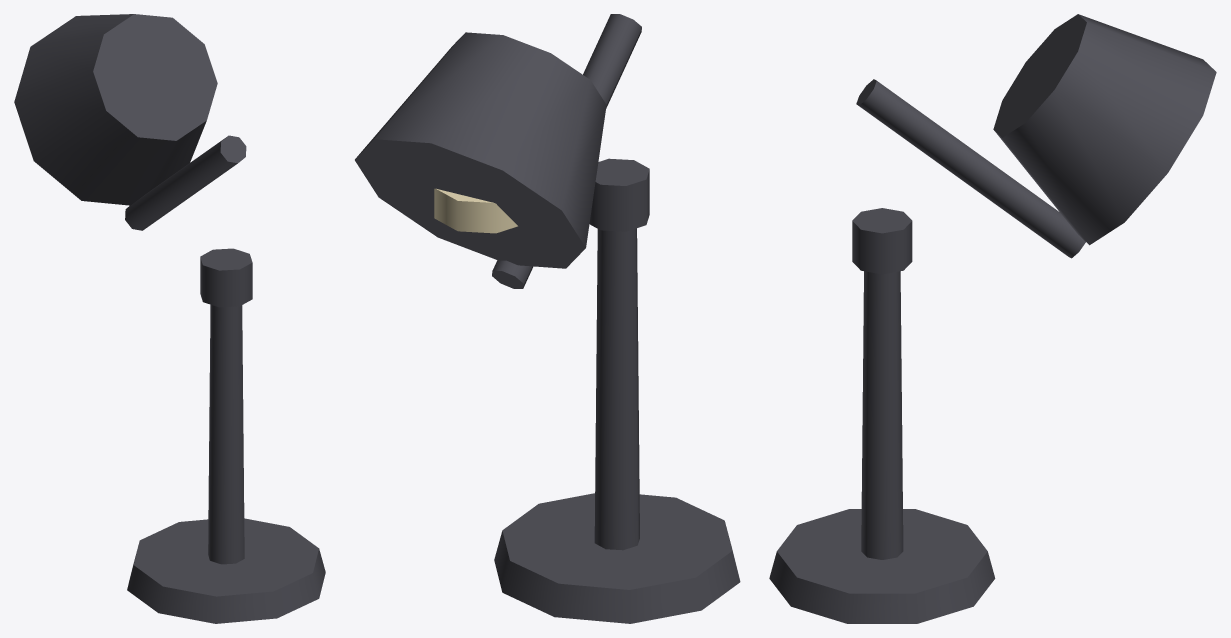
File: PRP_P0_Desk_Lamp_A.obj
3 renders of one model, left to right at view 1: azimuth 30°, elevation 25°; view 2: azimuth 150°, elevation 25°; view 3: azimuth 270°, elevation 25°, orthographic. The views are drawn at different scales.
Parts seen in each view (by area): view 1: head_shade, base_disc, stem_lower, stem_arm, joint; view 2: head_shade, base_disc, stem_lower, joint, stem_arm, bulb; view 3: head_shade, base_disc, stem_lower, stem_arm, joint.
Part boxes in pixels (x1,y1,x2,y2): head_shade: (14, 14, 217, 205); base_disc: (127, 518, 325, 623); stem_lower: (208, 304, 244, 564); stem_arm: (125, 135, 246, 230); joint: (200, 248, 252, 307); head_shade: (355, 32, 606, 268); base_disc: (494, 493, 740, 623); stem_lower: (594, 228, 639, 550); joint: (589, 158, 649, 231); stem_arm: (492, 14, 641, 288); bulb: (434, 188, 517, 233); head_shade: (993, 14, 1216, 245); base_disc: (769, 509, 995, 623); stem_lower: (861, 271, 903, 559); stem_arm: (856, 79, 1085, 258); joint: (852, 208, 912, 274).
Bounding box in the file's own units: 0.1427 × 0.4071 × 0.2969.
